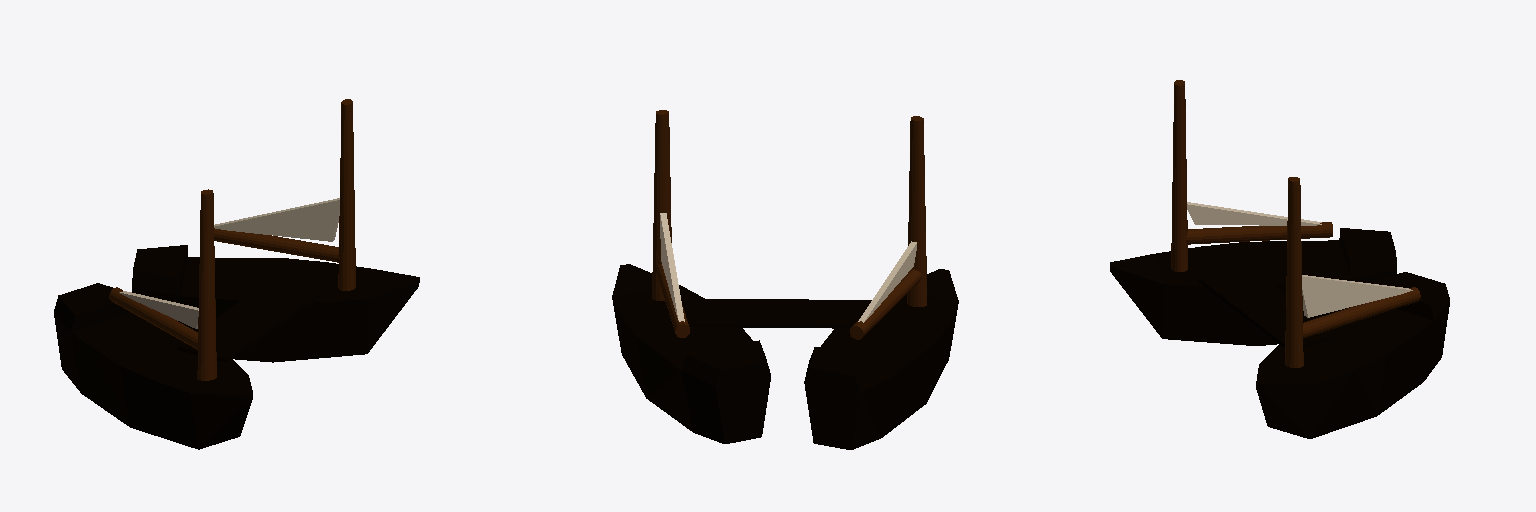
The model's file is port.obj.
3 views of the same model, side by side, from view 1: azimuth 30°, elevation 25°; view 2: azimuth 150°, elevation 25°; view 3: azimuth 270°, elevation 25° (orthographic).
Parts seen in each view (by area): view 1: PortCombined_Cylinder.023; view 2: PortCombined_Cylinder.023; view 3: PortCombined_Cylinder.023.
Part boxes in pixels (left/top/right/bottom): PortCombined_Cylinder.023: left=54, top=99, right=419, bottom=449; PortCombined_Cylinder.023: left=612, top=110, right=958, bottom=449; PortCombined_Cylinder.023: left=1110, top=80, right=1449, bottom=438.
Bounding box in the file's own units: 2.09 × 1.6 × 1.98.